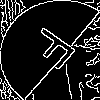F: (25, 25, 87, 77)
